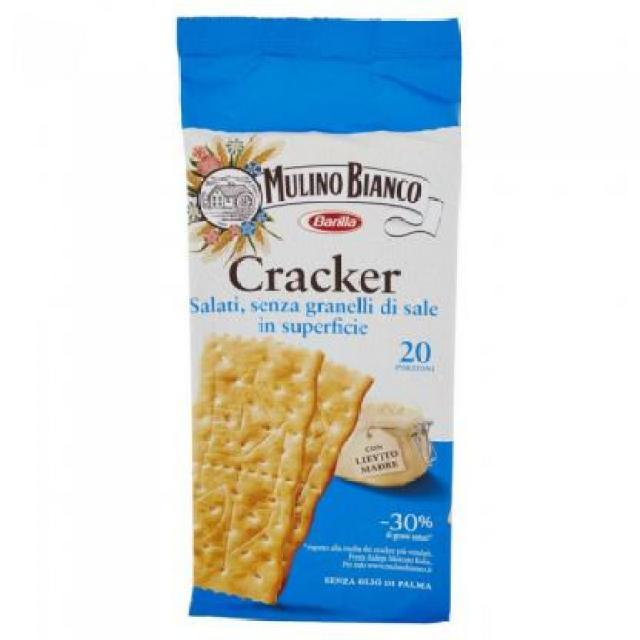Cracker: (156, 12, 458, 630)
